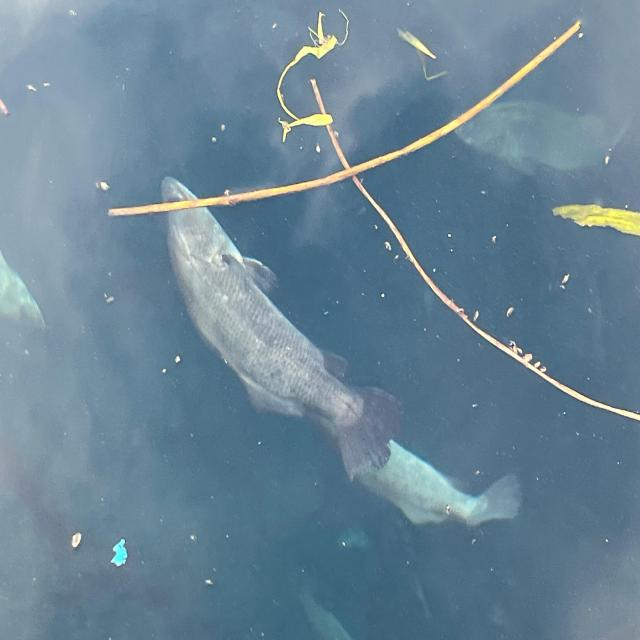ikan: (159, 174, 521, 528)
